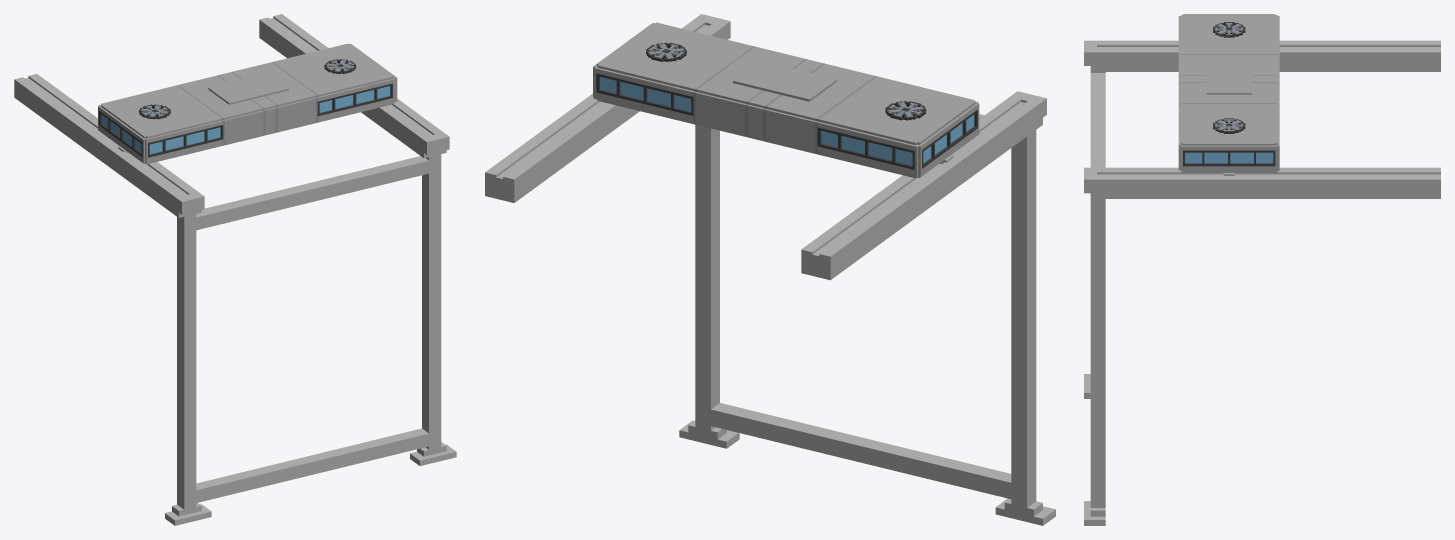
The model's file is tap 1.2.obj.
3 renders of one model, left to right at view 1: azimuth 30°, elevation 25°; view 2: azimuth 150°, elevation 25°; view 3: azimuth 270°, elevation 25°, orthographic. The views are drawn at different scales.
Bounding box in the file's own units: 16.1 × 19.3 × 16.6.
Materials: 1 (1 with a texture image).
